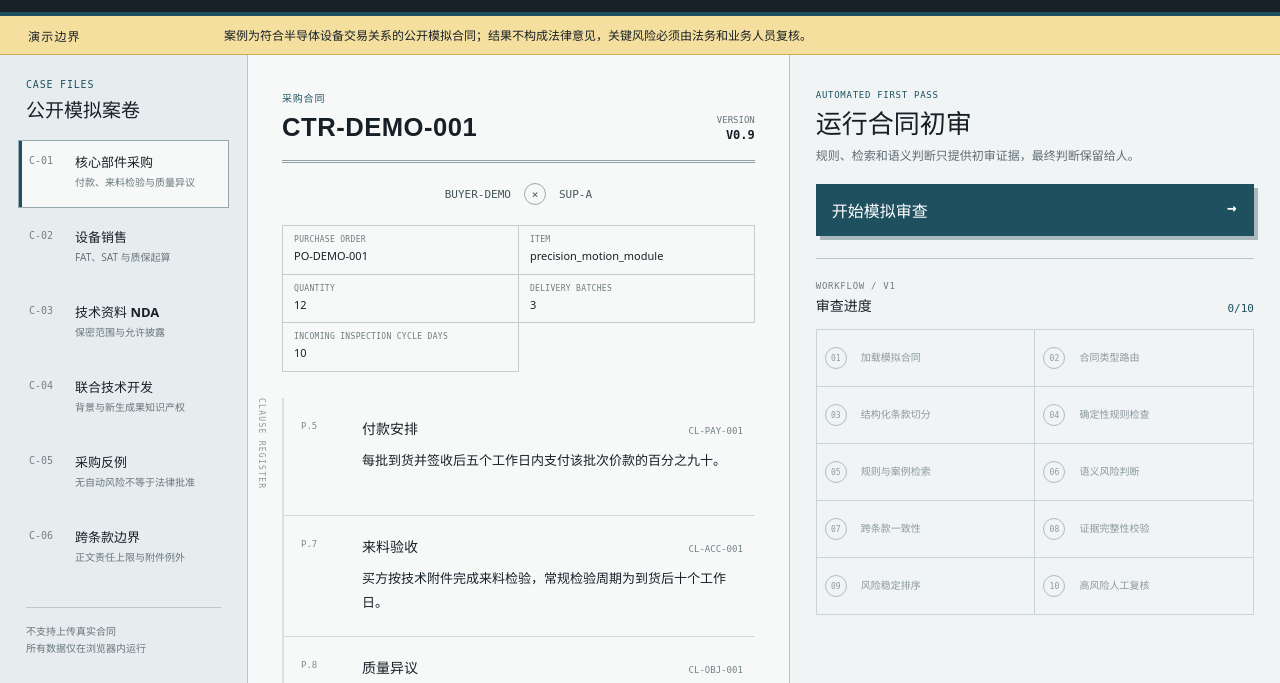
contract review console › runs the workflow and exposes evidence-bound risks
Step 1. Click the button "开始模拟审查 →" → (880, 211), box x1=816 y1=184 x2=1254 y2=236
(page scrolled)
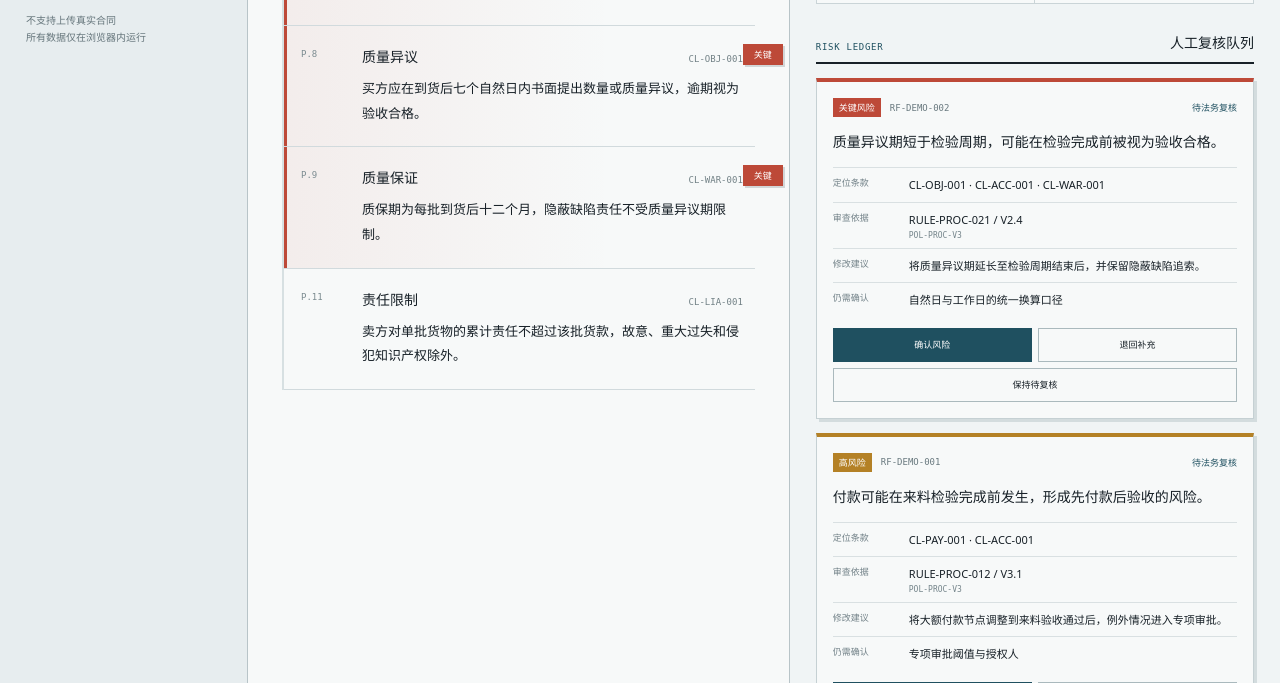
Result: the text "人工复核队列" is shown at x1=1170 y1=32 x2=1254 y2=52
Result: the text "RF-DEMO-002" is shown at x1=890 y1=103 x2=949 y2=113
Result: the text "RULE-PROC-021 / V2.4 POL-PROC-V3" is shown at x1=909 y1=212 x2=1022 y2=240
Step 2. Click the button "确认风险" below "自然日与工作日的统一换算口径" → (932, 345), box x1=833 y1=328 x2=1032 y2=362
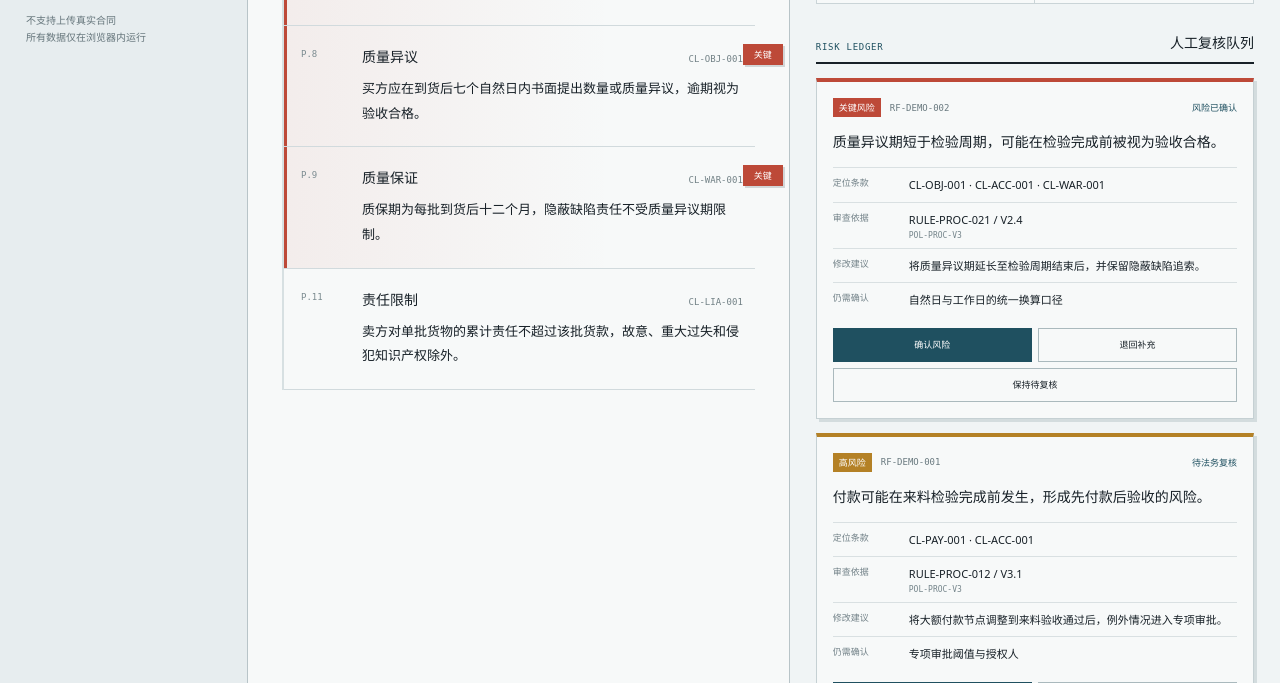
Result: the text "风险已确认" is shown at x1=1192 y1=101 x2=1237 y2=114
